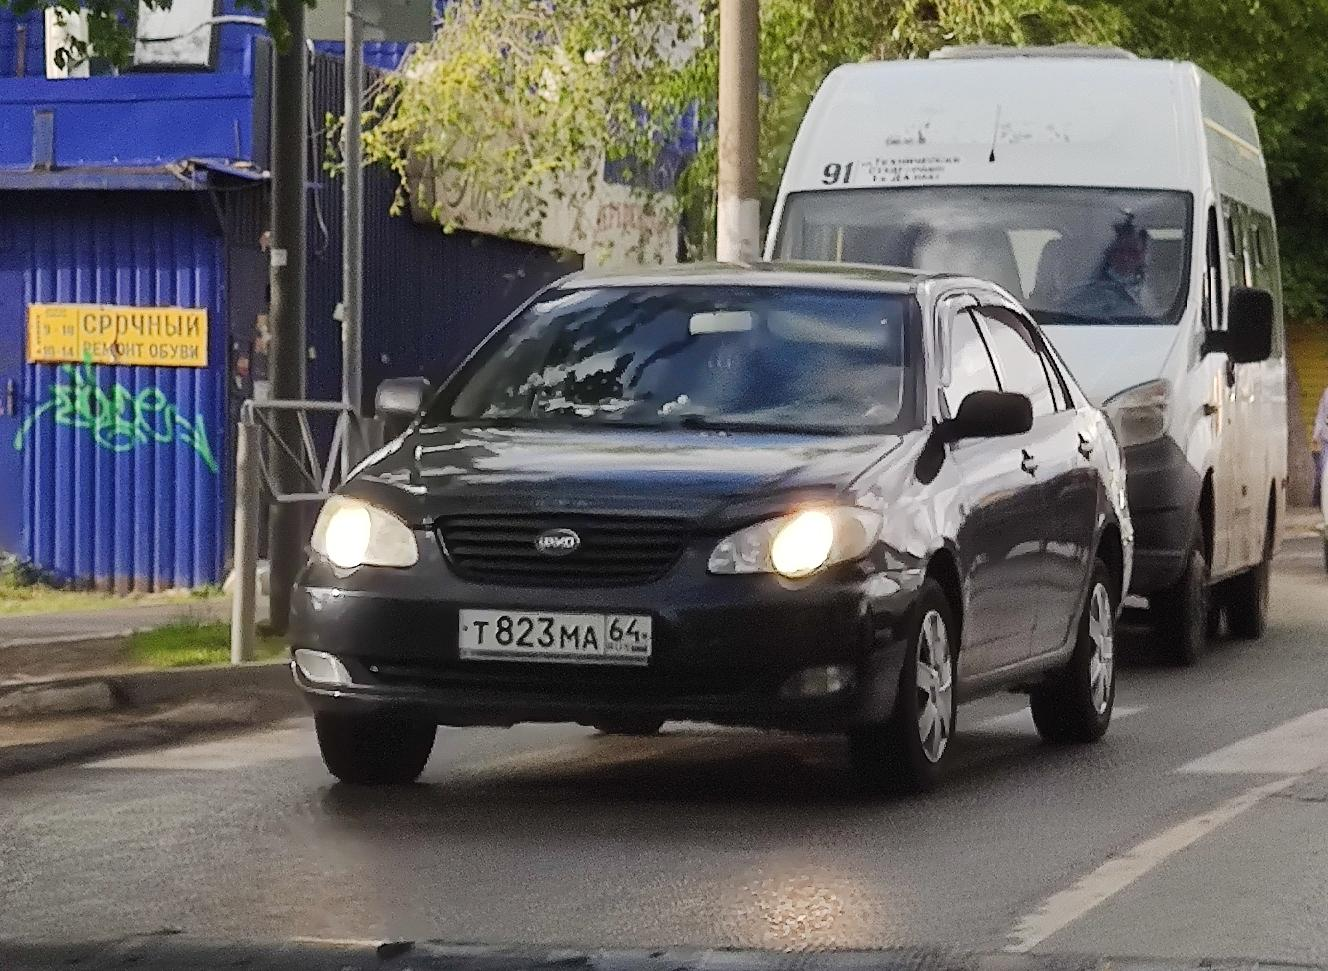license-plateSW: (461, 611, 657, 658)
